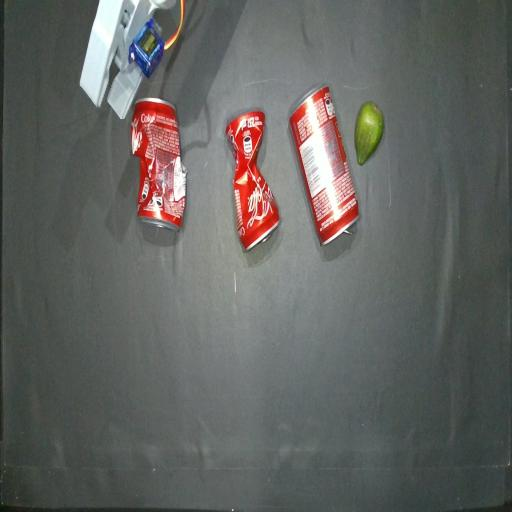higo: (354, 101, 383, 165)
lata: (290, 87, 358, 245)
lata_defectuoso: (130, 98, 186, 230), (226, 110, 279, 249)
